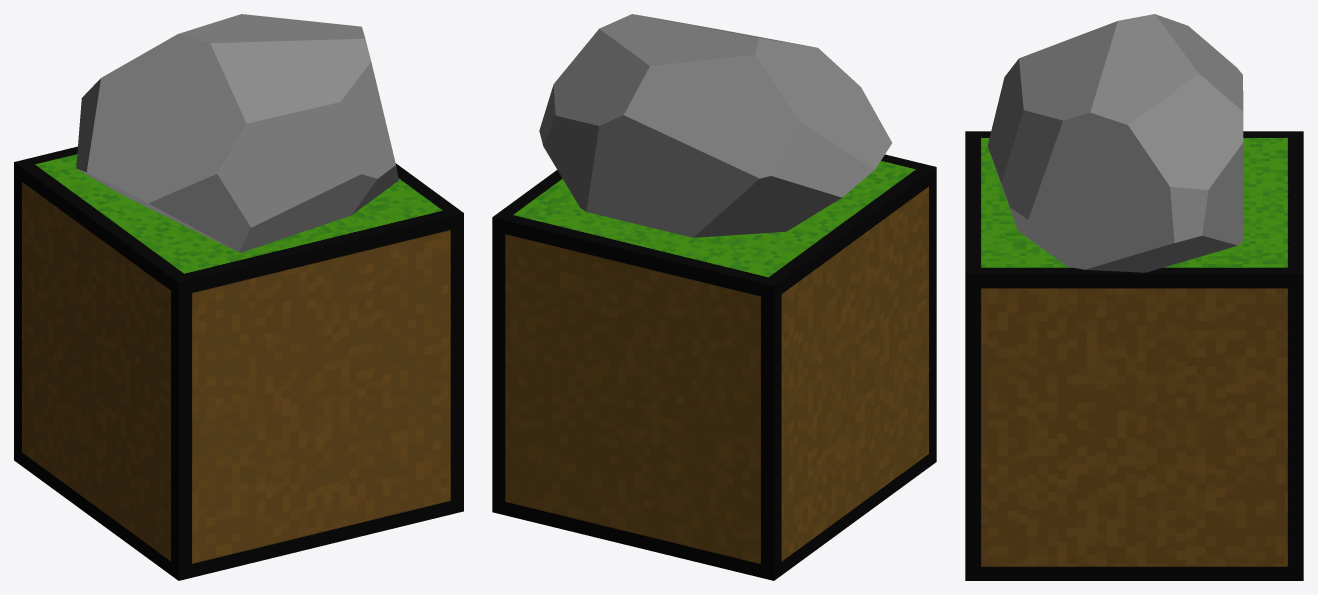
File: ThickRock.glb
The picture shows the model from 3 angles, left to right: view 1: azimuth 30°, elevation 25°; view 2: azimuth 150°, elevation 25°; view 3: azimuth 270°, elevation 25°; orthographic projection. The views are drawn at different scales.
Parts seen in each view (by area): view 1: Grass_v2Baked, Rock 1; view 2: Grass_v2Baked, Rock 1; view 3: Grass_v2Baked, Rock 1.
Boxes of the visible parts, left/top/right/bottom form: Grass_v2Baked: left=14, top=146, right=463, bottom=580; Rock 1: left=76, top=14, right=398, bottom=252; Grass_v2Baked: left=492, top=154, right=936, bottom=580; Rock 1: left=539, top=14, right=891, bottom=237; Grass_v2Baked: left=965, top=131, right=1303, bottom=580; Rock 1: left=987, top=14, right=1243, bottom=272.
Size of the model in its own units: 1.08 by 1.5 by 0.98.
2 materials, 1 textured.
